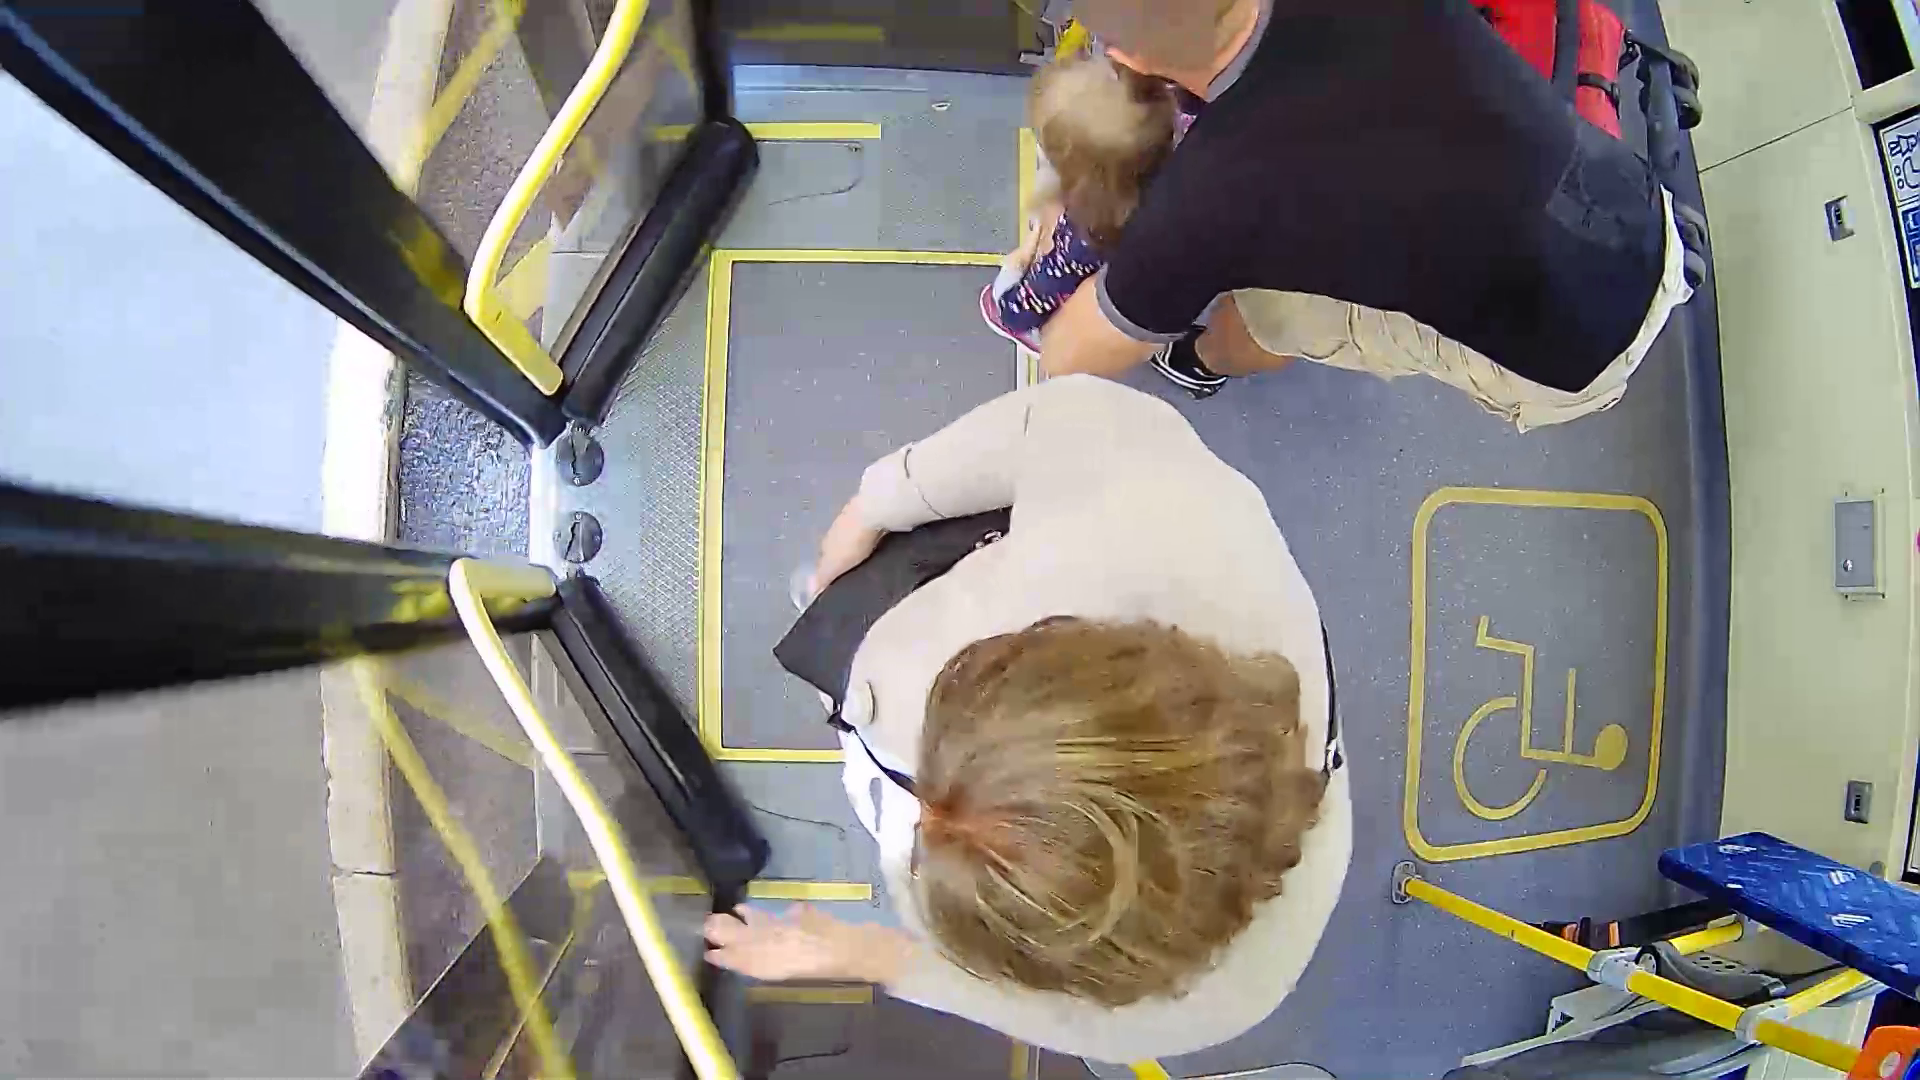person: (780, 383, 1524, 1036), (987, 1, 1716, 473)
